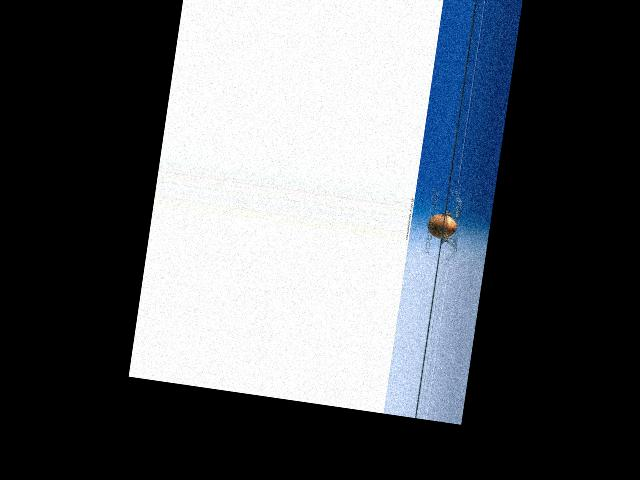egg: (426, 212, 458, 240)
